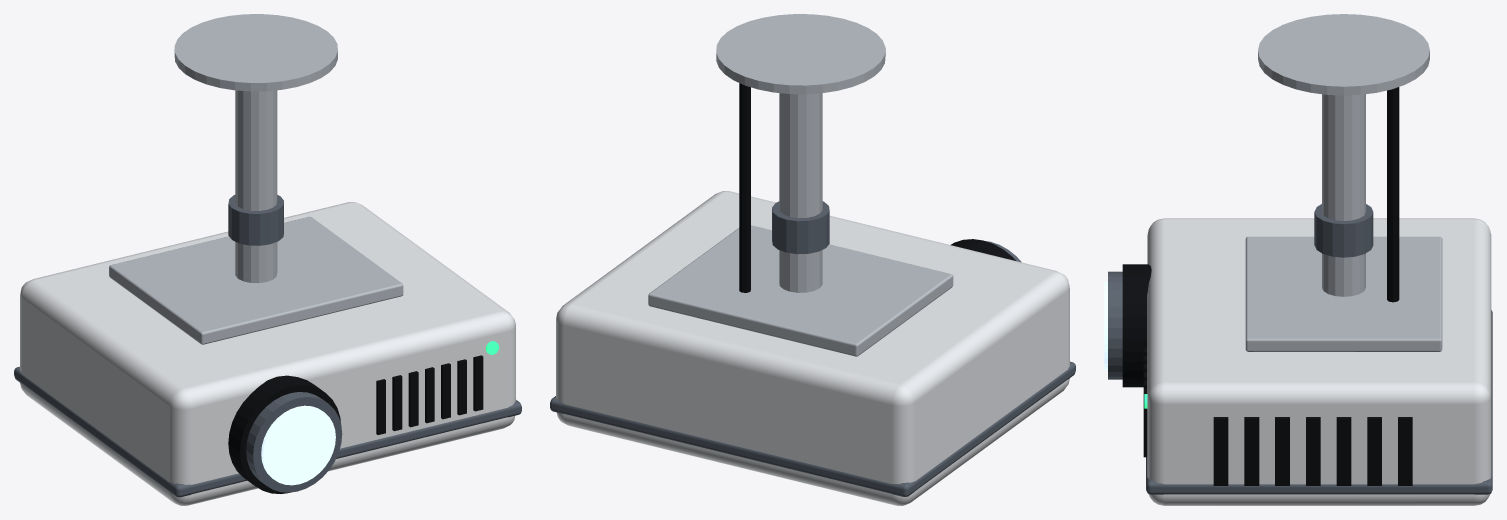
The model's file is projector.glb.
The picture shows the model from 3 angles, left to right: view 1: azimuth 30°, elevation 25°; view 2: azimuth 150°, elevation 25°; view 3: azimuth 270°, elevation 25°; orthographic projection. The views are drawn at different scales.
Visible parts, largest first — view 1: projector; view 2: projector; view 3: projector.
Boxes of the visible parts, x1,y1,x2,y2 form: projector: (14, 14, 521, 505); projector: (550, 14, 1075, 505); projector: (1104, 14, 1492, 505).
Bounding box in the file's own units: 0.345 × 0.335 × 0.316.
